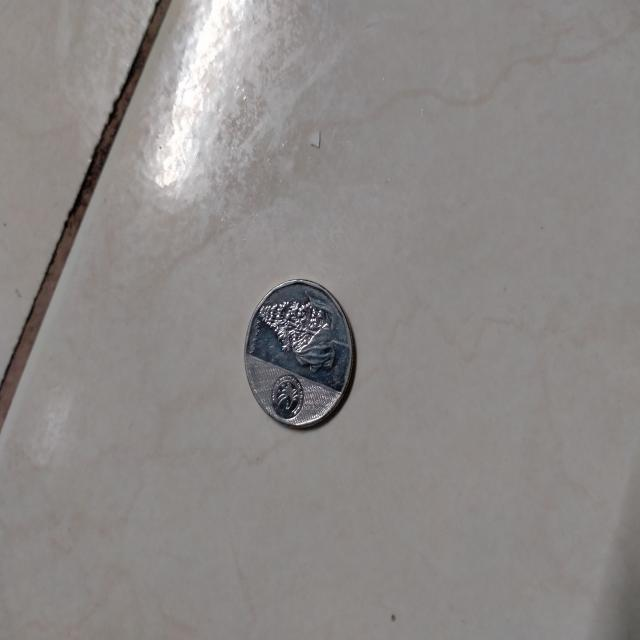10_New_Back: (254, 292, 340, 422)
